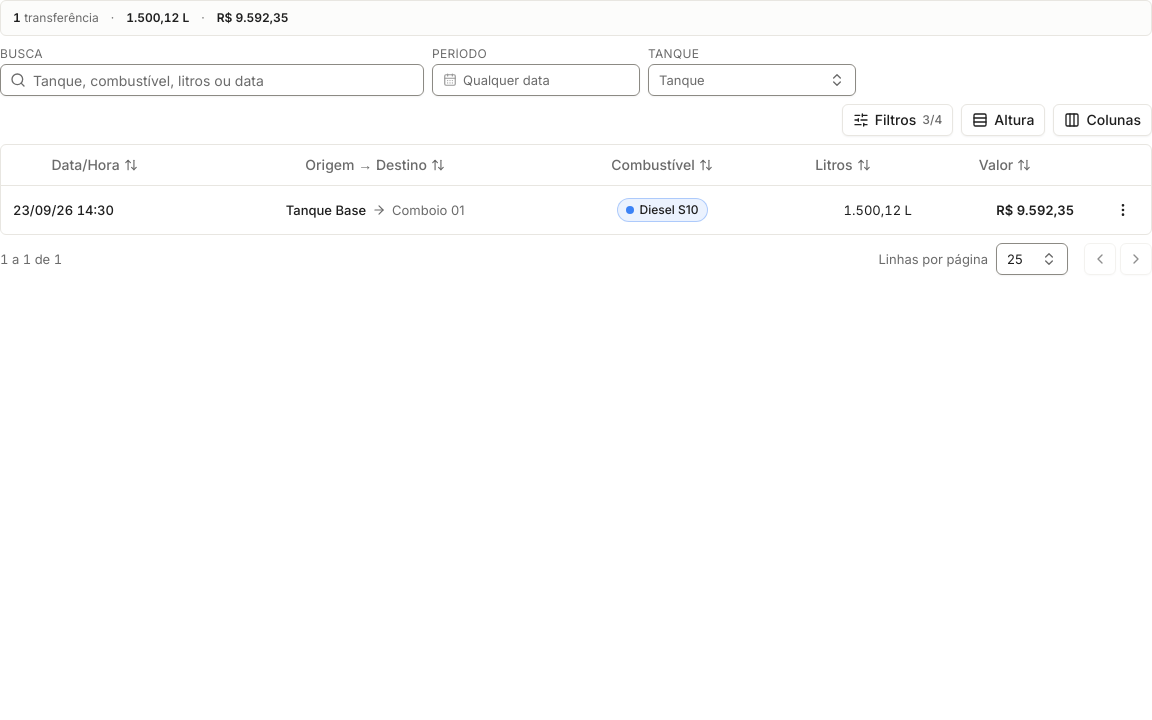
TransferenciasTabela › clique na linha abre o detalhe, com o diagrama origem → destino
Click the text "Tanque Base" at [326, 210], box [286,200,366,220]
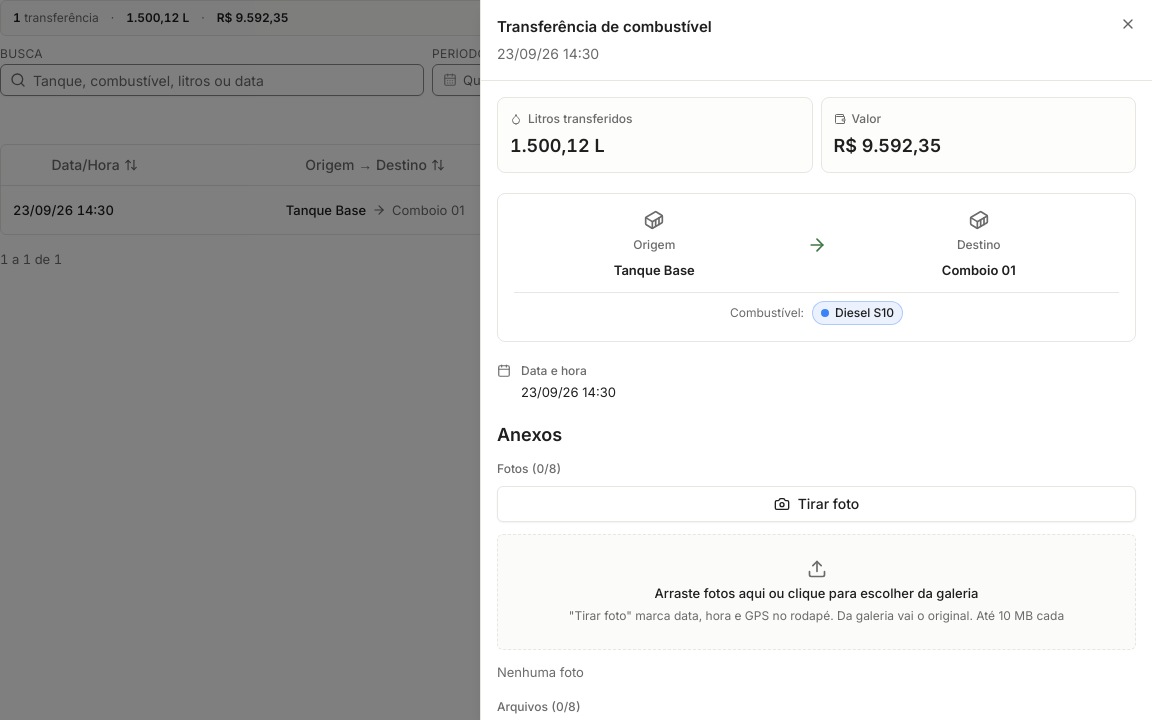
Expected: the heading "Transferência de combustível" is shown, [497,17,712,36]
Expected: the text "Litros transferidos" is shown, [510,111,633,126]
